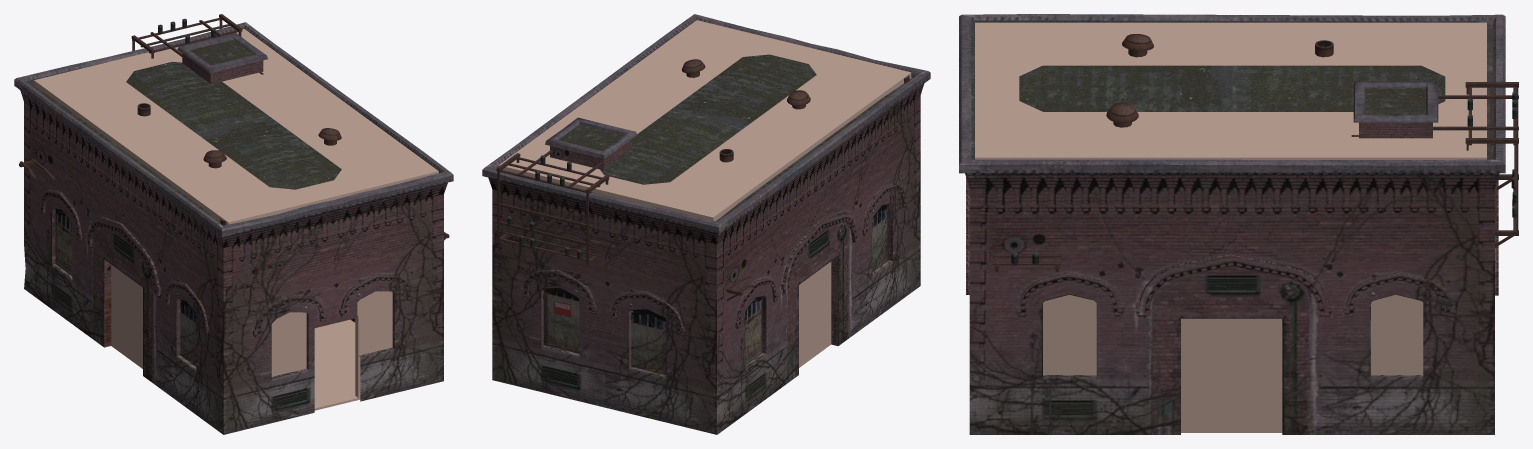
Rendered from brick-substation.access-v6.lod0.glb.
3 views of the same model, side by side, from view 1: azimuth 30°, elevation 25°; view 2: azimuth 150°, elevation 25°; view 3: azimuth 270°, elevation 25° (orthographic). The views are drawn at different scales.
Parts seen in each view (by area): view 1: BrickSubstation00__0, Walkable floors and stairs; view 2: BrickSubstation00__0, Walkable floors and stairs; view 3: BrickSubstation00__0, Walkable floors and stairs.
Boxes of the visible parts, box(x1,y1,x2,y2) form: BrickSubstation00__0: box(14, 14, 453, 434); Walkable floors and stairs: box(34, 29, 438, 410); BrickSubstation00__0: box(482, 14, 930, 434); Walkable floors and stairs: box(498, 20, 911, 367); BrickSubstation00__0: box(959, 14, 1518, 434); Walkable floors and stairs: box(975, 22, 1486, 432).
Bounding box in the file's own units: 7.1 × 6.16 × 10.5.
2 materials, 1 textured.
